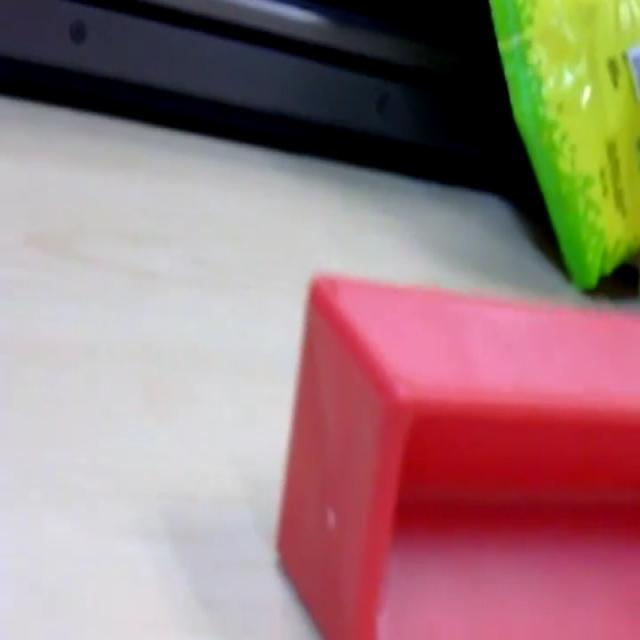red_block: (274, 267, 638, 636)
